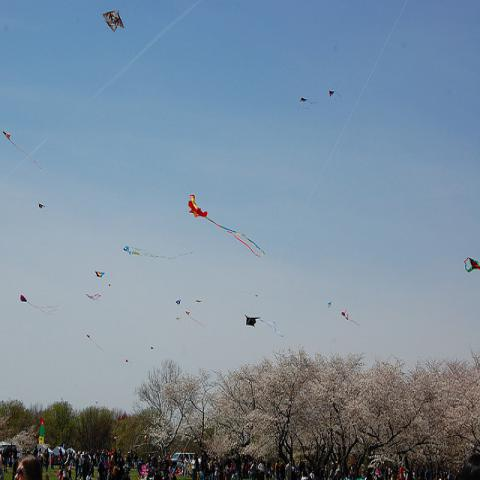truck: (170, 452, 195, 472)
